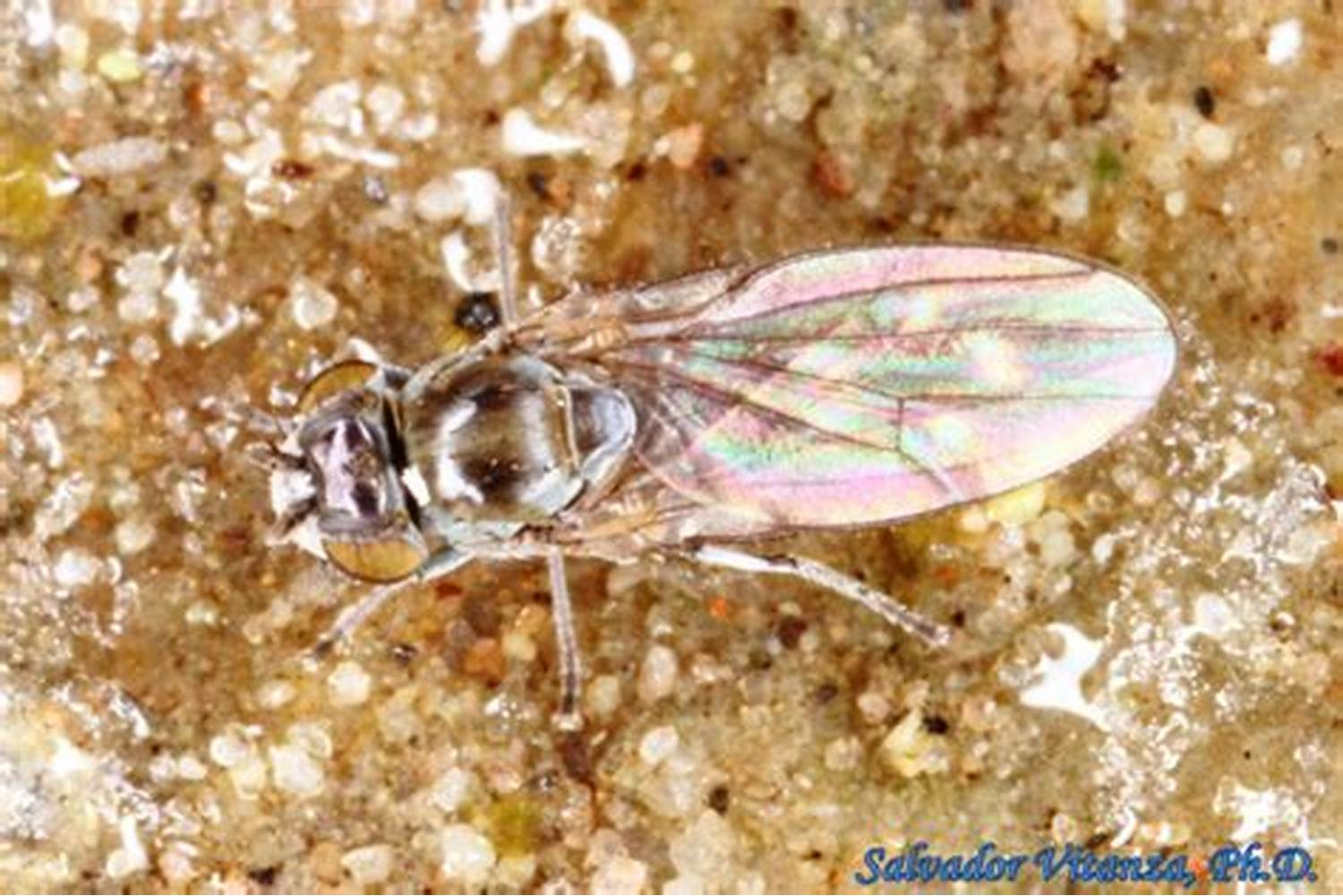Ephydridae: (197, 192, 1178, 729)
